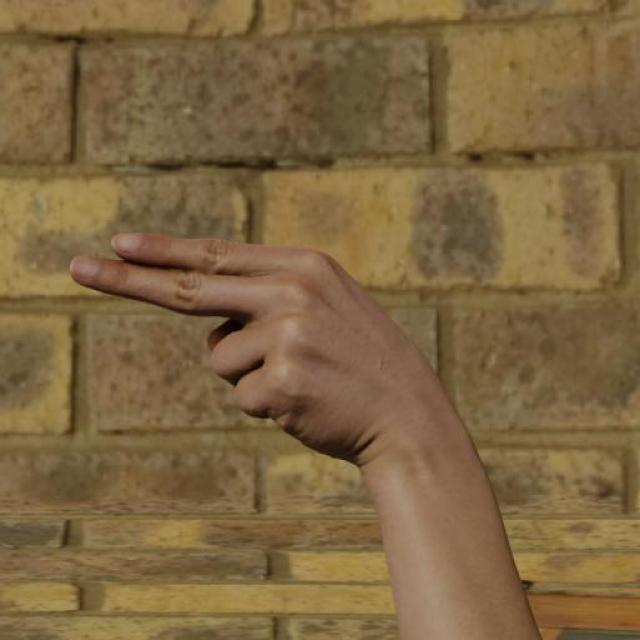H: (58, 230, 412, 464)
